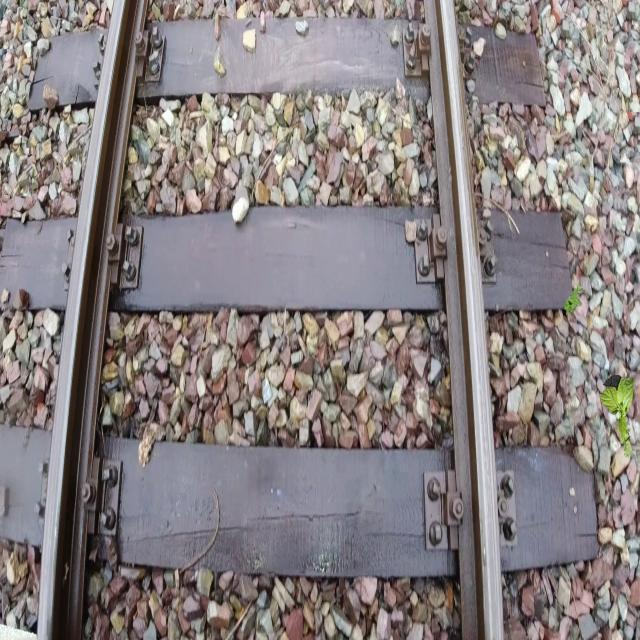Plant: (599, 375, 634, 458), (563, 284, 582, 316)
